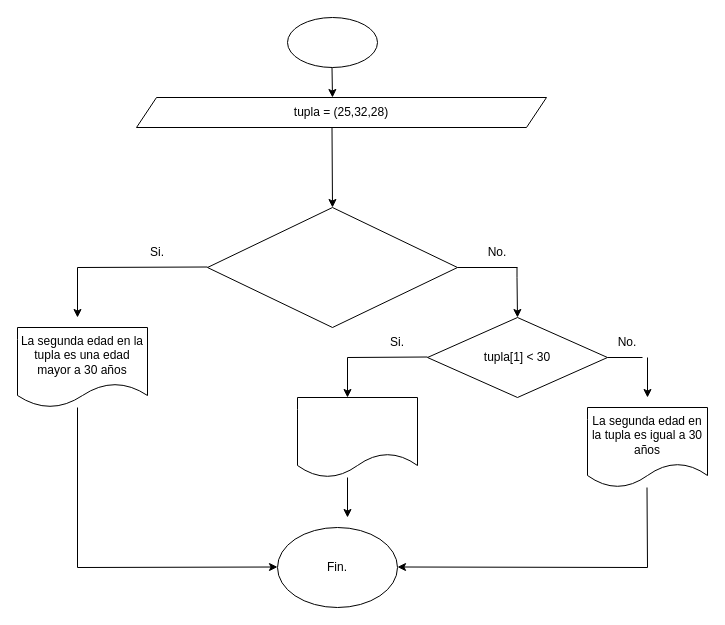
Image size: 725x625. Some labels were removed from this diagram. The shapes that lost their labels are listed below. From the top down, each one's box as (x1, y1, x2, y2) in pixels, then its label:
(286, 16, 378, 68): Inicio
(206, 206, 458, 328): tupla[1] > 30
(296, 396, 418, 478): La segunda edad en la tupla es una edad menor a 30 años
